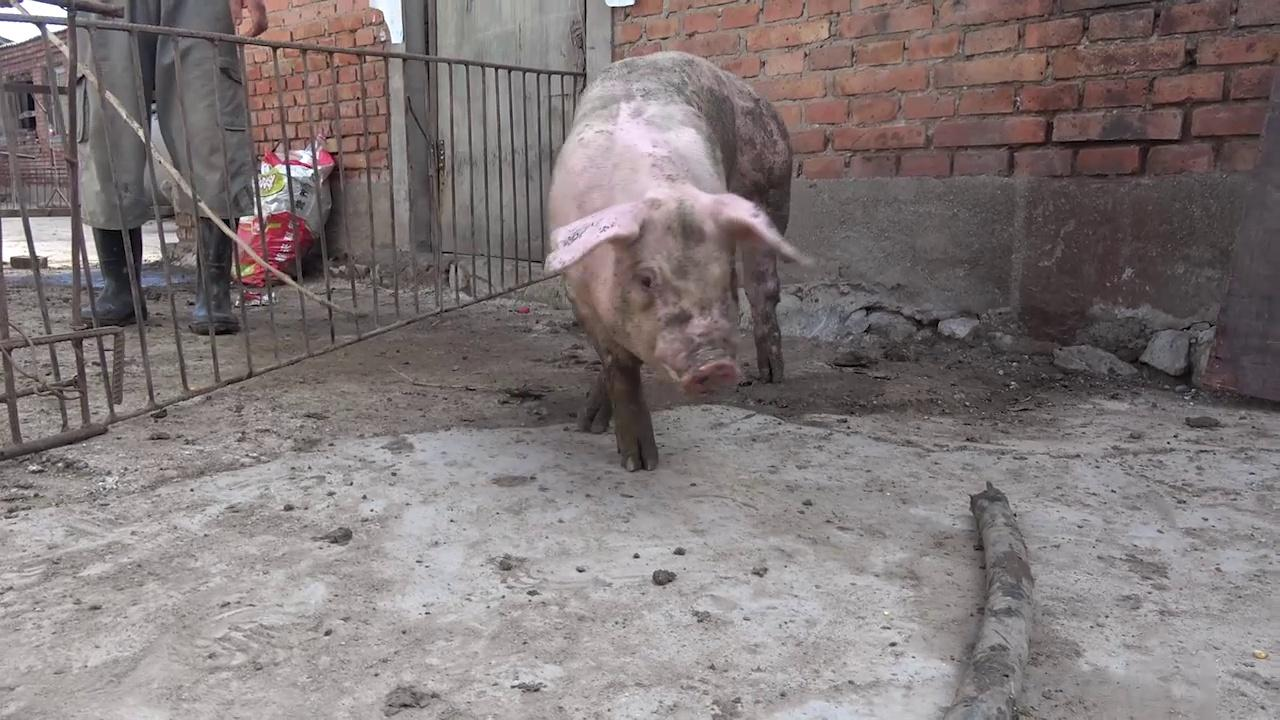Face: (539, 182, 819, 410)
